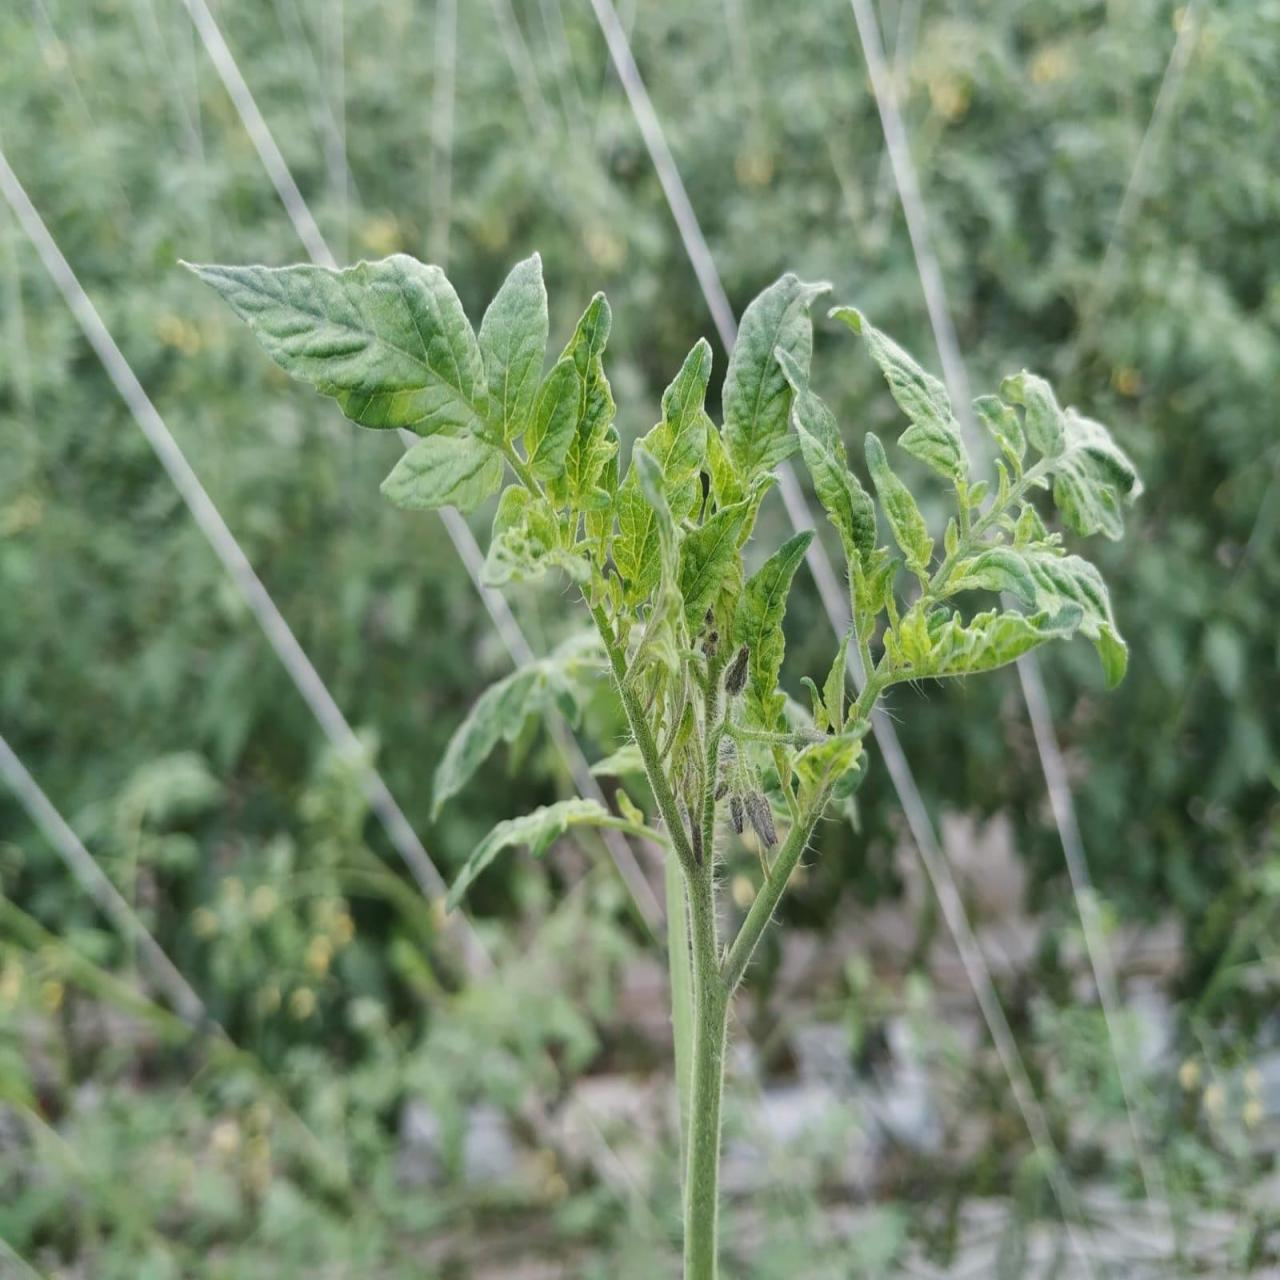T_L_H: (193, 253, 549, 511), (724, 274, 831, 481)
T_L_R: (614, 341, 714, 611), (736, 531, 811, 731), (561, 294, 619, 511), (866, 434, 934, 584), (681, 504, 745, 638), (526, 358, 581, 481)
